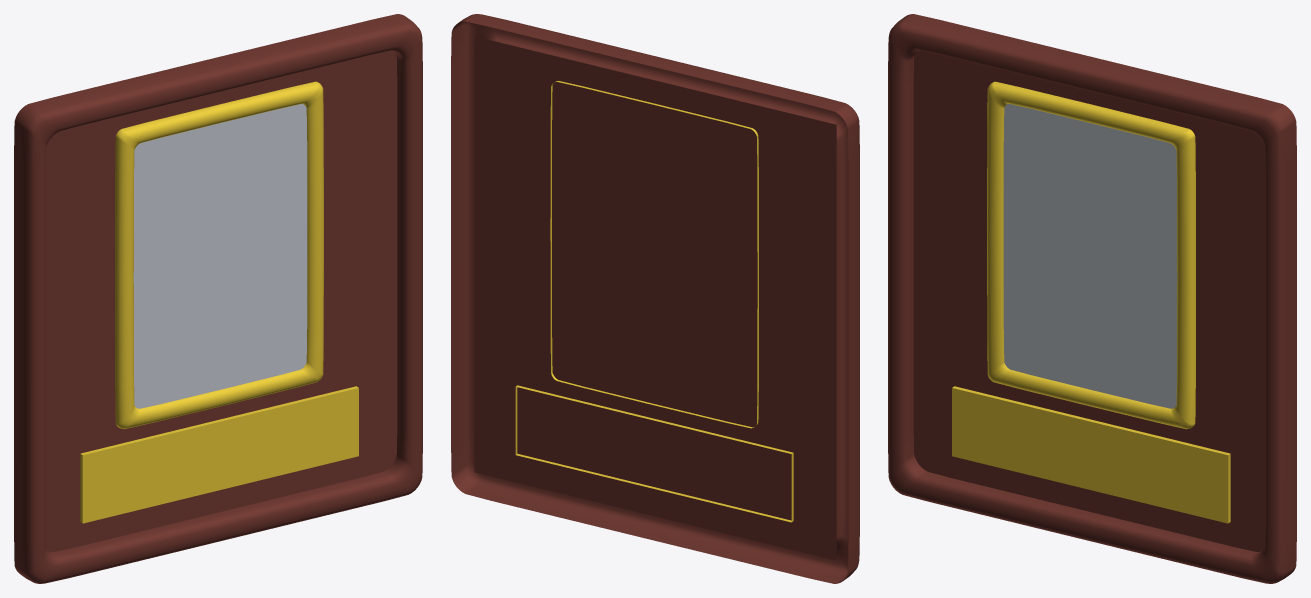
The model's file is SM_EmployeePlaque.fbx.
The picture shows the model from 3 angles, left to right: view 1: azimuth 30°, elevation 25°; view 2: azimuth 150°, elevation 25°; view 3: azimuth 330°, elevation 25°; orthographic projection.
Visible parts, largest first — view 1: polySurface192, polySurface193, polySurface190, pPlane1, polySurface191; view 2: polySurface192, polySurface193, polySurface191, pPlane1; view 3: polySurface192, polySurface193, polySurface190, pPlane1, polySurface191.
Boxes of the visible parts, bbox=[...] form: polySurface192: bbox=[45, 50, 397, 551]; polySurface193: bbox=[14, 14, 422, 583]; polySurface190: bbox=[133, 104, 307, 408]; pPlane1: bbox=[80, 386, 358, 523]; polySurface191: bbox=[115, 81, 323, 429]; polySurface192: bbox=[474, 36, 836, 560]; polySurface193: bbox=[451, 14, 859, 583]; polySurface191: bbox=[550, 81, 758, 428]; pPlane1: bbox=[515, 385, 793, 522]; polySurface192: bbox=[913, 50, 1265, 551]; polySurface193: bbox=[888, 14, 1296, 583]; polySurface190: bbox=[1003, 104, 1177, 408]; pPlane1: bbox=[952, 386, 1230, 523]; polySurface191: bbox=[987, 81, 1195, 429].
Bounding box in the file's own units: 119 × 135 × 7.91.
1 material, 1 textured.
